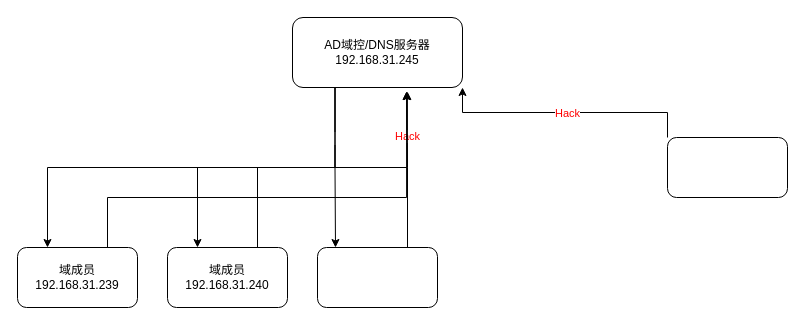
Image size: 805x325. Some labels were removed from this diagram. Here are the shapes that lost their labels. From the top down, the box of each, then its label:
(666, 136, 788, 198): Macbook 192.168.31.250
(316, 246, 438, 308): 域成员 192.168.31.241
